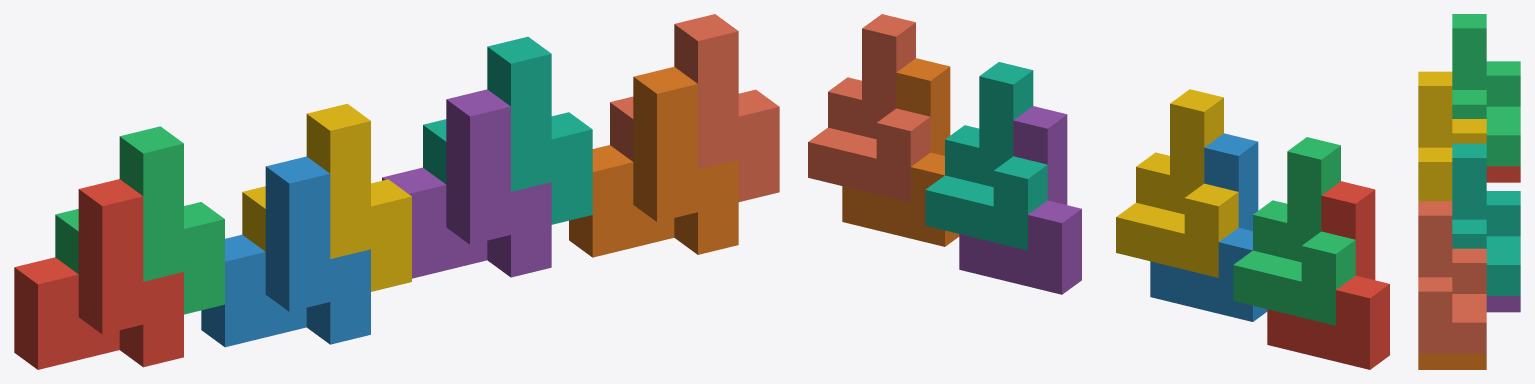
Rendered from tiling.obj.
The picture shows the model from 3 angles, left to right: view 1: azimuth 30°, elevation 25°; view 2: azimuth 150°, elevation 25°; view 3: azimuth 270°, elevation 25°; orthographic projection. The views are drawn at different scales.
Parts seen in each view (by area): view 1: copy_1_domain_1, copy_1_domain_2, copy_1_domain_6, copy_1_domain_5, copy_1_domain_7, copy_1_domain_8, copy_1_domain_3, copy_1_domain_4; view 2: copy_1_domain_7, copy_1_domain_4, copy_1_domain_8, copy_1_domain_3, copy_1_domain_1, copy_1_domain_5, copy_1_domain_2, copy_1_domain_6; view 3: copy_1_domain_8, copy_1_domain_7, copy_1_domain_3, copy_1_domain_4, copy_1_domain_6, copy_1_domain_1, copy_1_domain_5.
Part boxes in pixels (x1,y1,x2,y2): copy_1_domain_1: (14, 179, 183, 369); copy_1_domain_2: (201, 156, 370, 347); copy_1_domain_6: (569, 67, 738, 257); copy_1_domain_5: (382, 89, 551, 278); copy_1_domain_7: (423, 36, 592, 224); copy_1_domain_8: (610, 14, 779, 201); copy_1_domain_3: (55, 126, 224, 314); copy_1_domain_4: (242, 103, 411, 291); copy_1_domain_7: (925, 62, 1047, 250); copy_1_domain_4: (1116, 89, 1238, 277); copy_1_domain_8: (808, 14, 930, 202); copy_1_domain_3: (1233, 137, 1355, 325); copy_1_domain_1: (1267, 181, 1389, 369); copy_1_domain_5: (959, 106, 1081, 294); copy_1_domain_2: (1150, 133, 1267, 321); copy_1_domain_6: (842, 58, 959, 246); copy_1_domain_8: (1418, 201, 1486, 353); copy_1_domain_7: (1452, 143, 1520, 295); copy_1_domain_3: (1452, 14, 1520, 166); copy_1_domain_4: (1418, 71, 1486, 201); copy_1_domain_6: (1418, 353, 1486, 369); copy_1_domain_1: (1486, 166, 1520, 182); copy_1_domain_5: (1486, 296, 1520, 312).
Size of the model in its own units: 17 by 5 by 3.
